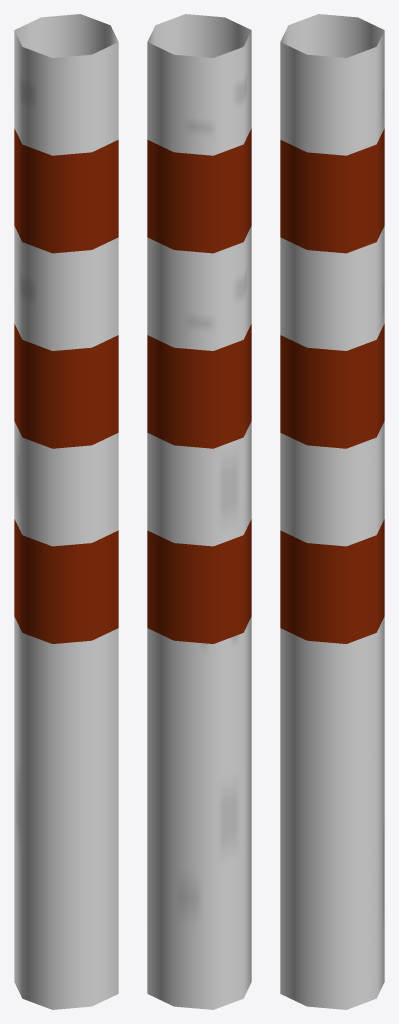
File: Factory_Tube_02.glb
The picture shows the model from 3 angles, left to right: view 1: azimuth 30°, elevation 25°; view 2: azimuth 150°, elevation 25°; view 3: azimuth 330°, elevation 25°; orthographic projection.
Visible parts, largest first — view 1: factory_tube_02_geo; view 2: factory_tube_02_geo; view 3: factory_tube_02_geo.
Part boxes in pixels (x1,y1,x2,y2): factory_tube_02_geo: [14, 14, 118, 1009]; factory_tube_02_geo: [147, 14, 251, 1009]; factory_tube_02_geo: [280, 14, 384, 1009].
Size of what is drawn, in the model's own units: 1.24 by 12.8 by 1.24.
Materials: 1 (1 with a texture image).
